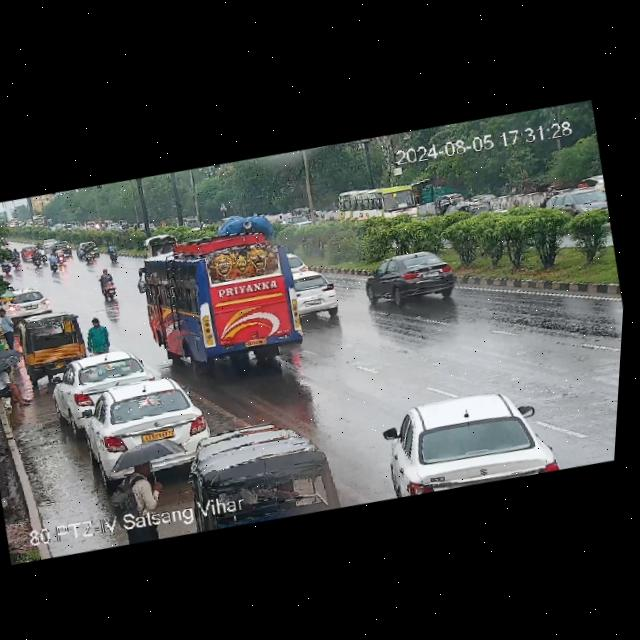bus: (120, 214, 316, 392), (333, 180, 428, 233)
car: (370, 371, 561, 504), (184, 403, 359, 536), (68, 369, 211, 477), (45, 341, 159, 422), (357, 240, 464, 312), (12, 305, 91, 376), (291, 262, 342, 324), (544, 181, 610, 222), (1, 282, 59, 322), (437, 190, 499, 222), (288, 249, 317, 275), (73, 241, 88, 258), (60, 238, 74, 256), (19, 246, 33, 260), (43, 238, 55, 250)
motorcycle: (91, 265, 124, 303), (46, 250, 62, 273), (8, 248, 22, 270), (106, 240, 118, 264), (86, 239, 99, 260), (83, 242, 93, 262), (38, 246, 49, 264), (30, 250, 40, 268), (55, 247, 66, 263), (0, 255, 10, 272)
person: (118, 447, 168, 519), (0, 354, 41, 417), (82, 313, 114, 354), (0, 305, 25, 351), (0, 298, 1, 319)
